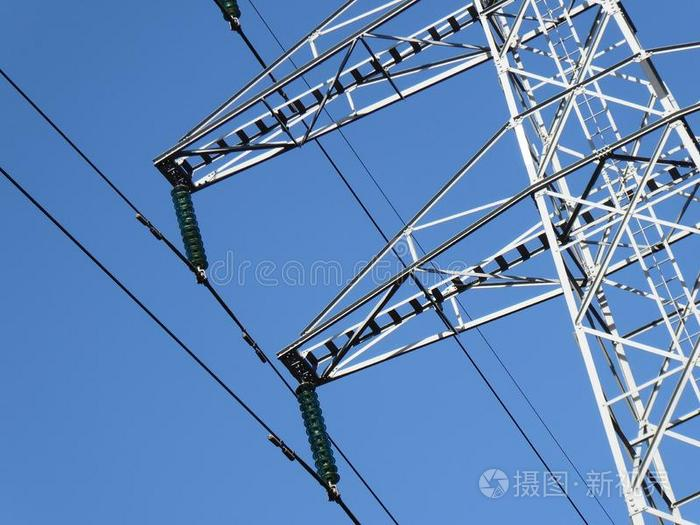insulator: (296, 388, 338, 483), (169, 186, 209, 270)
